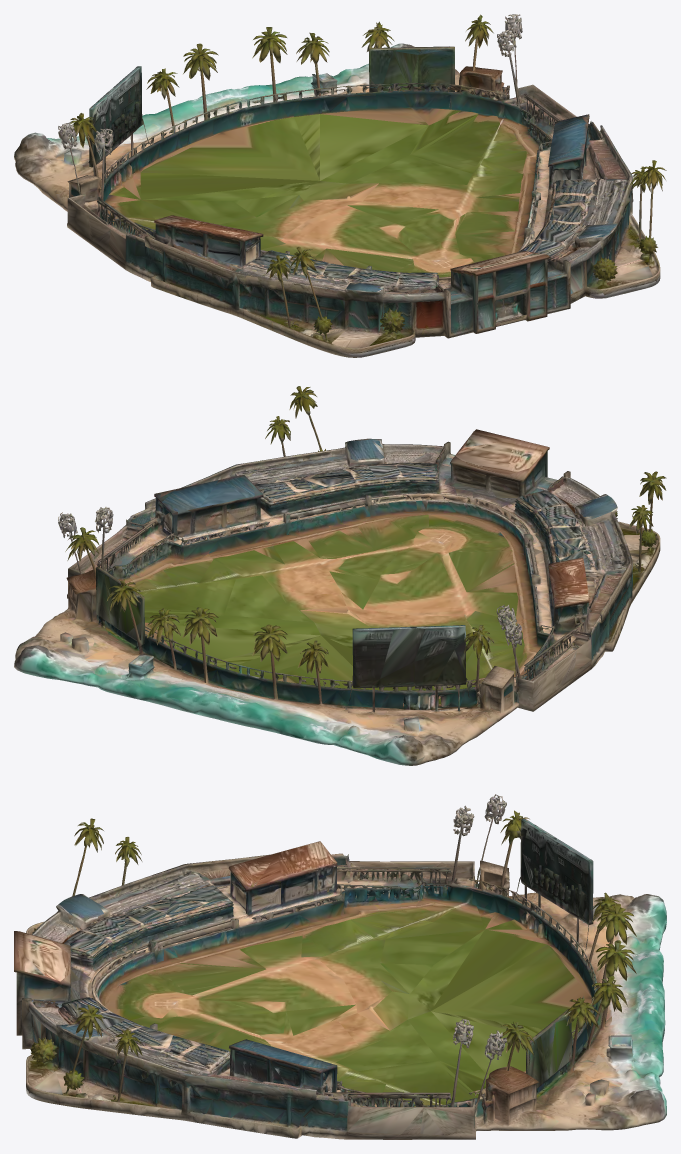
The model's file is baseball-park.glb.
3 renders of one model, top to bottom at view 1: azimuth 30°, elevation 25°; view 2: azimuth 150°, elevation 25°; view 3: azimuth 270°, elevation 25°, orthographic. The views are drawn at different scales.
Parts seen in each view (by area): view 1: Mesh_0; view 2: Mesh_0; view 3: Mesh_0.
Part boxes in pixels (x1,y1,x2,y2): Mesh_0: (14,14,666,357); Mesh_0: (14,386,666,765); Mesh_0: (14,794,666,1139).
Size of the model in its own units: 1.7 by 0.3456 by 1.9.
1 material, 1 textured.
